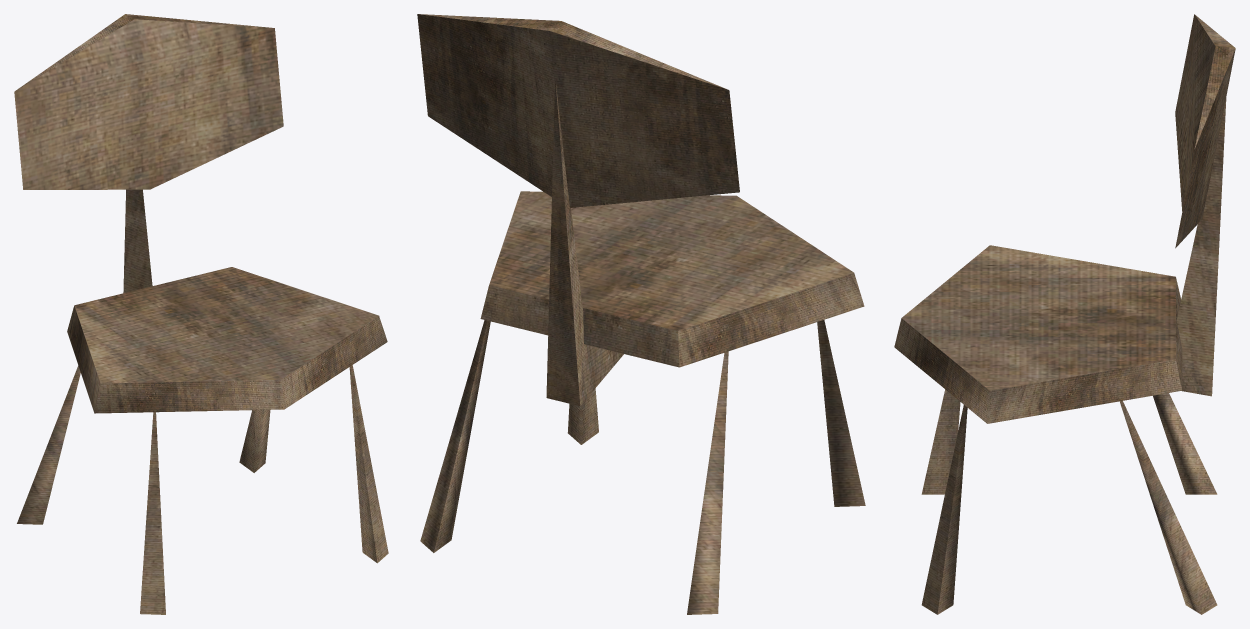
The model's file is frn_tato_chair_cafe_s01_l2.fbx.
3 renders of one model, left to right at view 1: azimuth 30°, elevation 25°; view 2: azimuth 150°, elevation 25°; view 3: azimuth 270°, elevation 25°, orthographic. The views are drawn at different scales.
Parts seen in each view (by area): view 1: mesh_node; view 2: mesh_node; view 3: mesh_node.
Part boxes in pixels (x1,y1,x2,y2): mesh_node: [14, 14, 388, 614]; mesh_node: [417, 14, 865, 614]; mesh_node: [894, 14, 1235, 614].
Bounding box in the file's own units: 0.5676 × 0.8683 × 0.5339.
